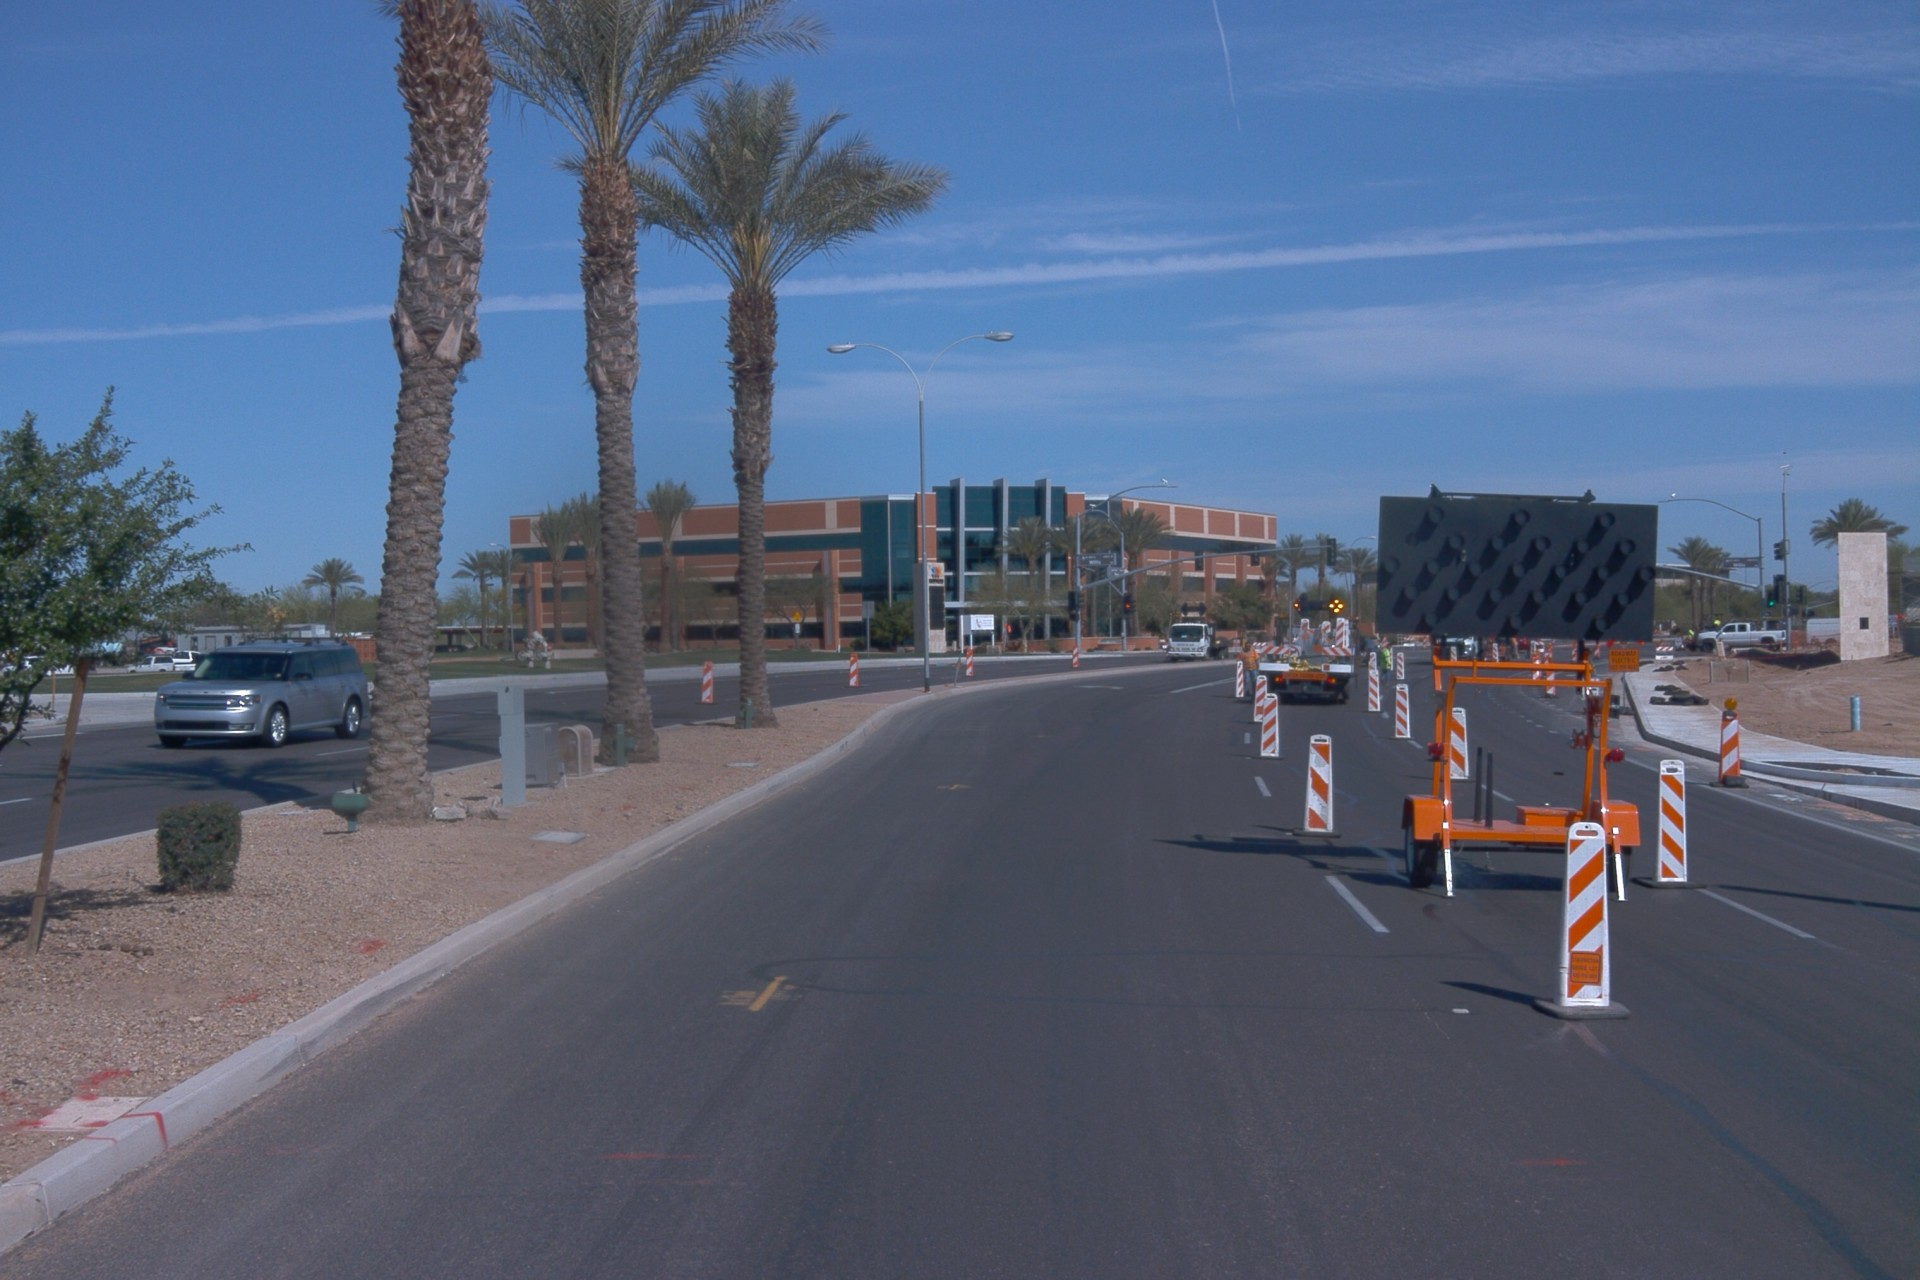TYPE_PEDESTRIAN: (1235, 640, 1261, 700), (1379, 641, 1393, 687)
TYPE_VEHICLE: (1357, 479, 1666, 899), (151, 637, 372, 748), (1247, 590, 1365, 707), (1161, 615, 1245, 667), (1696, 621, 1789, 655), (1429, 636, 1520, 666), (0, 654, 78, 680), (124, 651, 196, 679), (158, 646, 204, 668), (1512, 635, 1553, 656), (1359, 639, 1383, 669)
